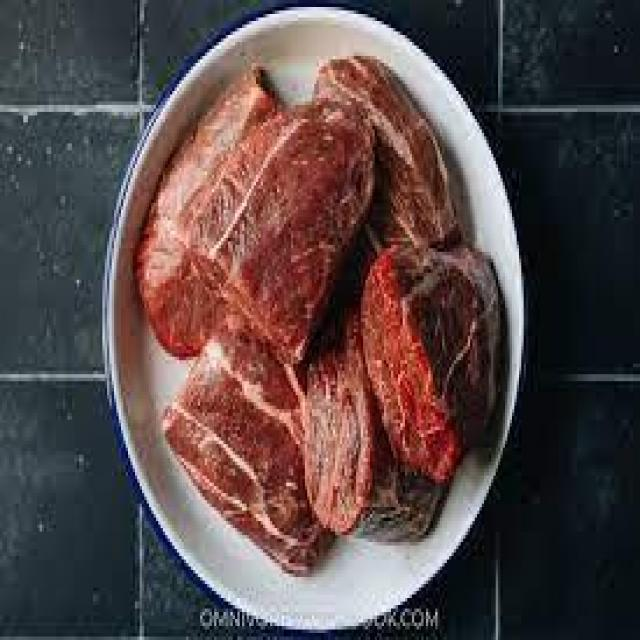Beef: (212, 89, 368, 346)
